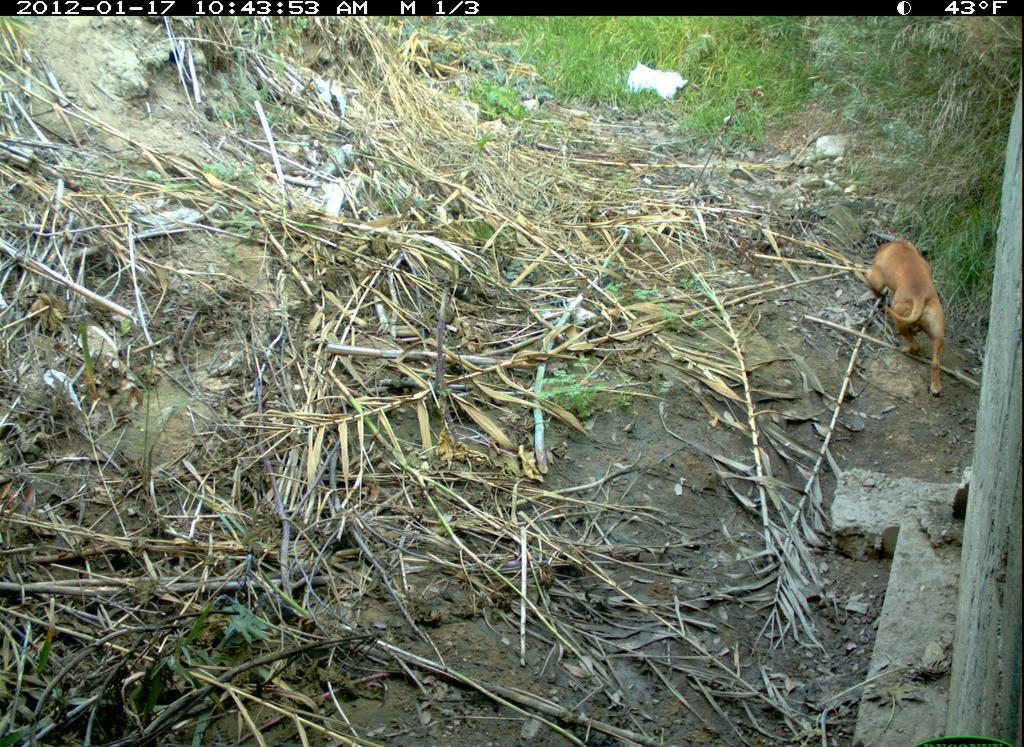dog: (863, 240, 948, 400)
